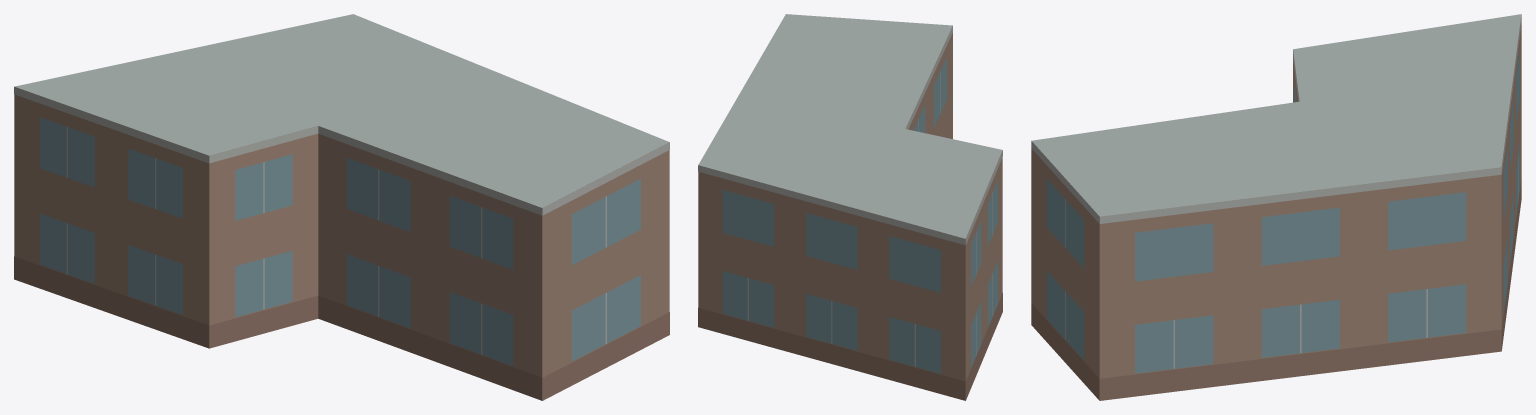
File: survey-upis-32765904.glb
3 renders of one model, left to right at view 1: azimuth 30°, elevation 25°; view 2: azimuth 150°, elevation 25°; view 3: azimuth 270°, elevation 25°, orthographic. The views are drawn at different scales.
Visible parts, largest first — view 1: survey-upis-32765904.tmp; view 2: survey-upis-32765904.tmp; view 3: survey-upis-32765904.tmp.
Boxes of the visible parts, x1=… form: survey-upis-32765904.tmp: x1=14, y1=14, x2=669, y2=400; survey-upis-32765904.tmp: x1=698, y1=14, x2=1002, y2=400; survey-upis-32765904.tmp: x1=1031, y1=14, x2=1521, y2=400.
Bounding box in the file's own units: 14.41 × 6.1 × 14.73.
